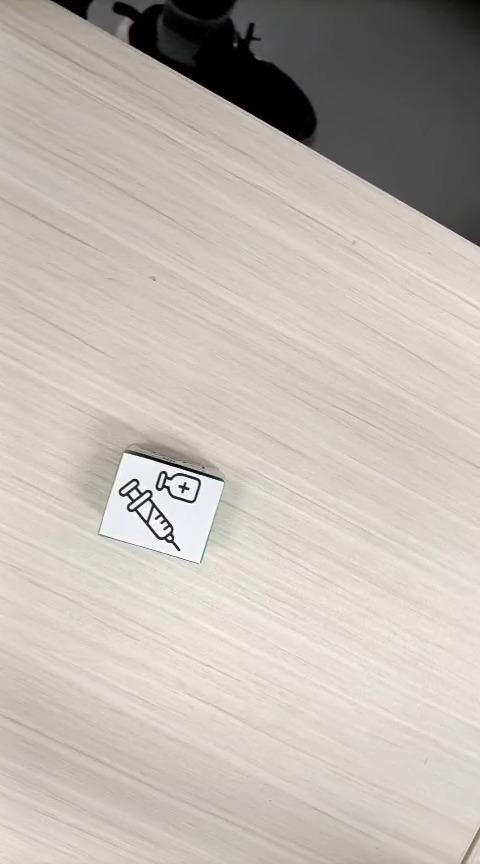antiseptic cream: (96, 442, 226, 565)
